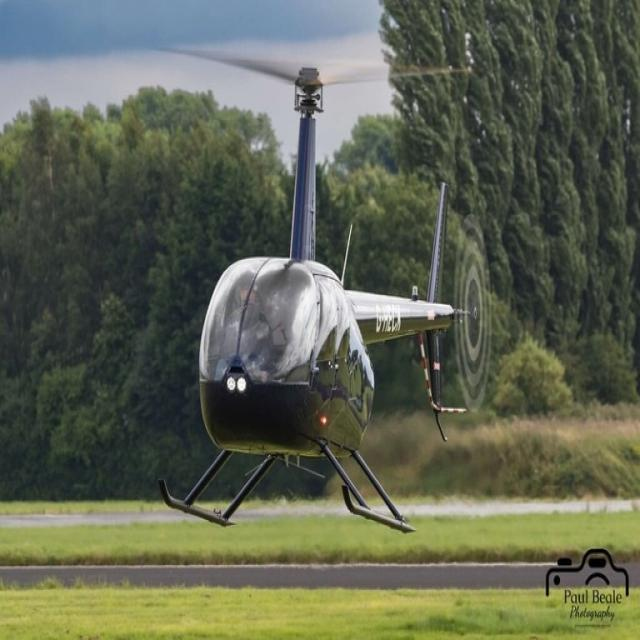CIV_HELO: (154, 62, 460, 538)
